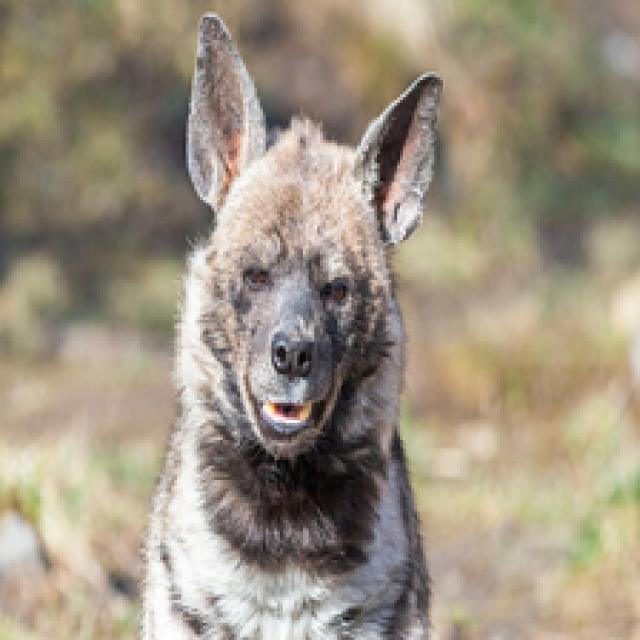hyena: (121, 11, 442, 626)
